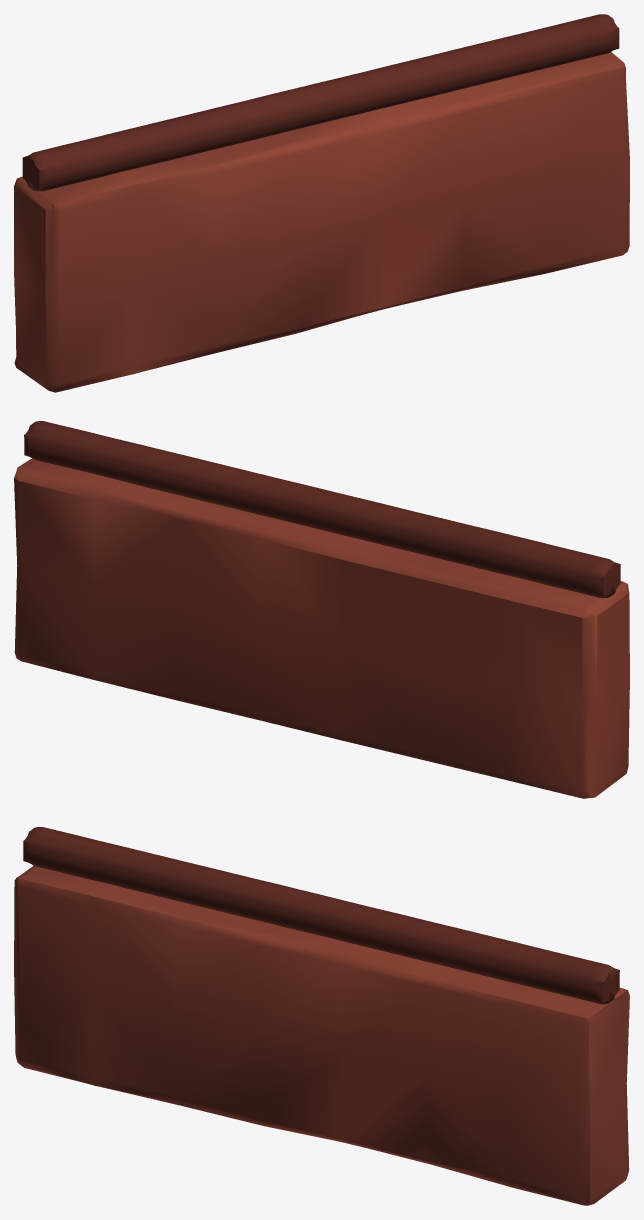
Rendered from den_bed_rail_x.glb.
3 renders of one model, top to bottom at view 1: azimuth 30°, elevation 25°; view 2: azimuth 150°, elevation 25°; view 3: azimuth 330°, elevation 25°, orthographic.
Visible parts, largest first — view 1: den_bed_rail_x; view 2: den_bed_rail_x; view 3: den_bed_rail_x.
Part boxes in pixels (left/top/right/bottom): den_bed_rail_x: left=14, top=14, right=629, bottom=392; den_bed_rail_x: left=14, top=421, right=629, bottom=798; den_bed_rail_x: left=14, top=827, right=629, bottom=1205.
Size of the model in its own units: 24.12 by 9.02 by 3.18.
